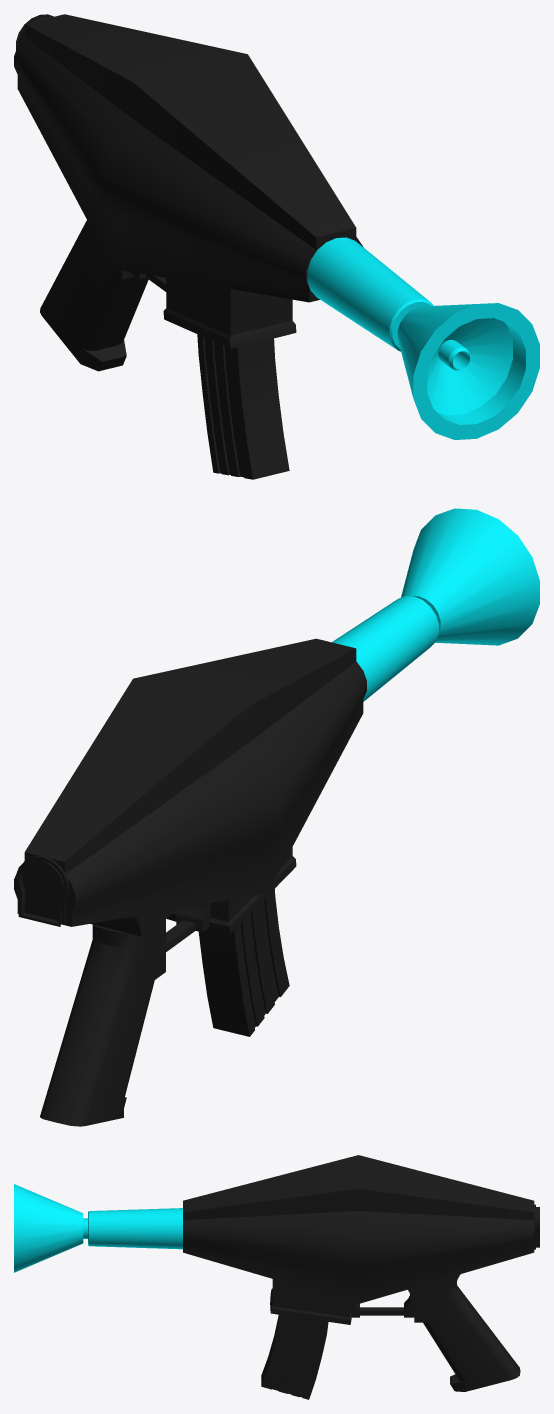
Rendered from AlienRifle.fbx.
3 views of the same model, one above another, from view 1: azimuth 30°, elevation 25°; view 2: azimuth 150°, elevation 25°; view 3: azimuth 270°, elevation 25° (orthographic). The views are drawn at different scales.
Parts seen in each view (by area): view 1: Uzayli Silahı.007; view 2: Uzayli Silahı.007; view 3: Uzayli Silahı.007.
Boxes of the visible parts, x1,y1,x2,y2 form: Uzayli Silahı.007: [14, 14, 539, 479]; Uzayli Silahı.007: [14, 508, 539, 1126]; Uzayli Silahı.007: [14, 1155, 539, 1399].
Size of the model in its own units: 54.9 by 110 by 236.
